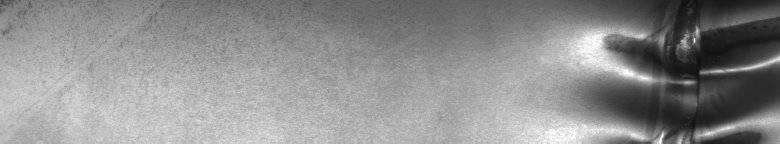ke: (604, 14, 776, 136)
